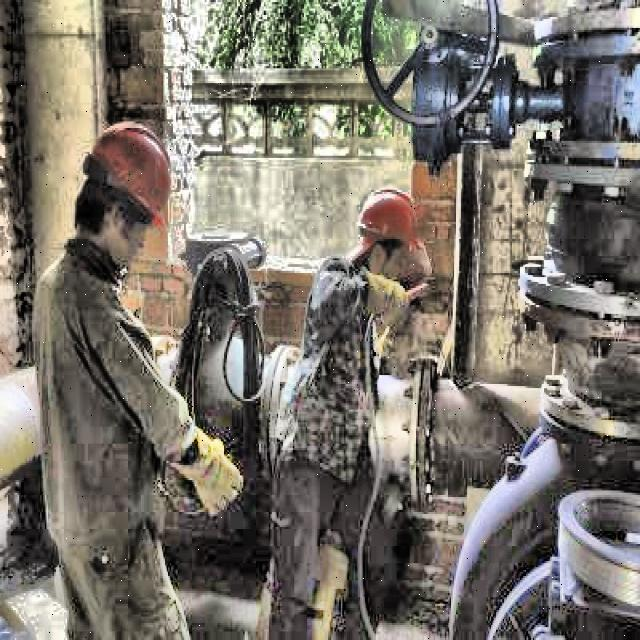helmet: (72, 111, 186, 273), (350, 185, 424, 278)
